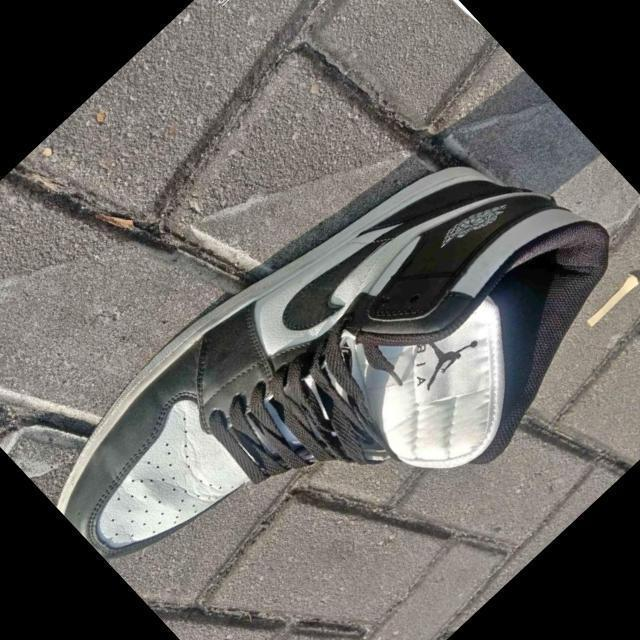nike fake jordan 1: (26, 71, 640, 640)
